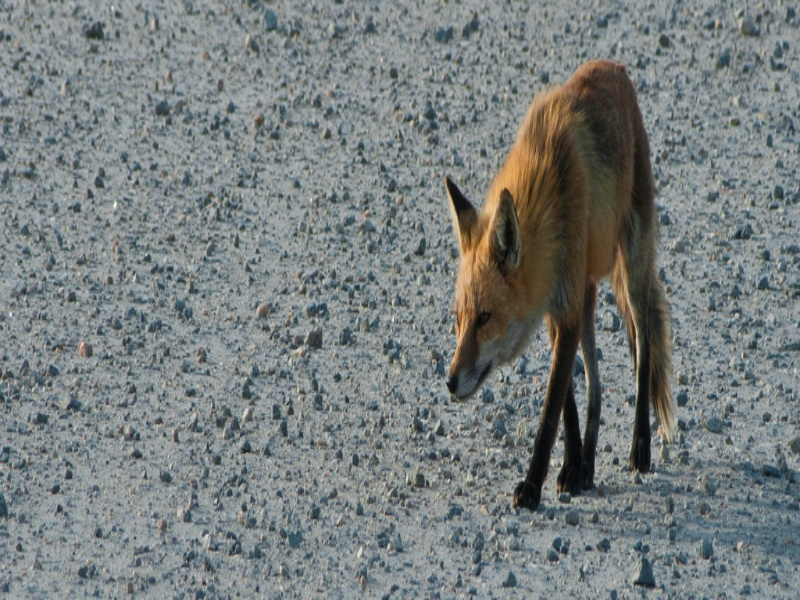fox: (441, 52, 676, 520)
